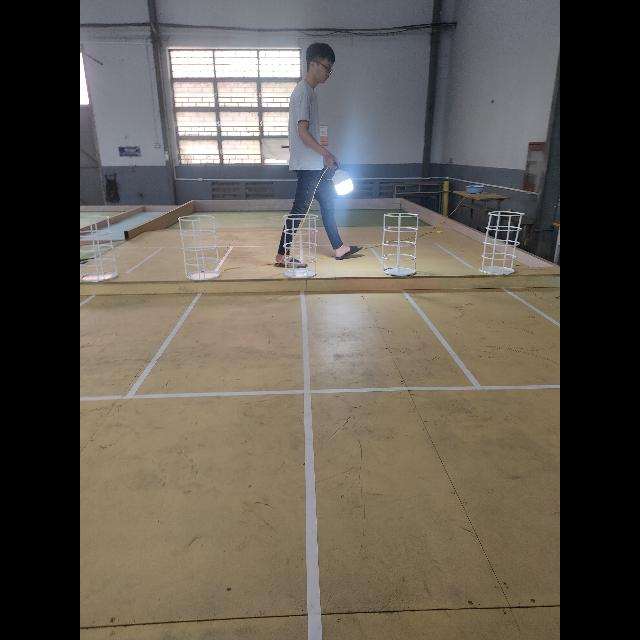S: (479, 210, 525, 276), (178, 216, 220, 280), (80, 217, 120, 283), (382, 212, 420, 276), (283, 214, 317, 278)
